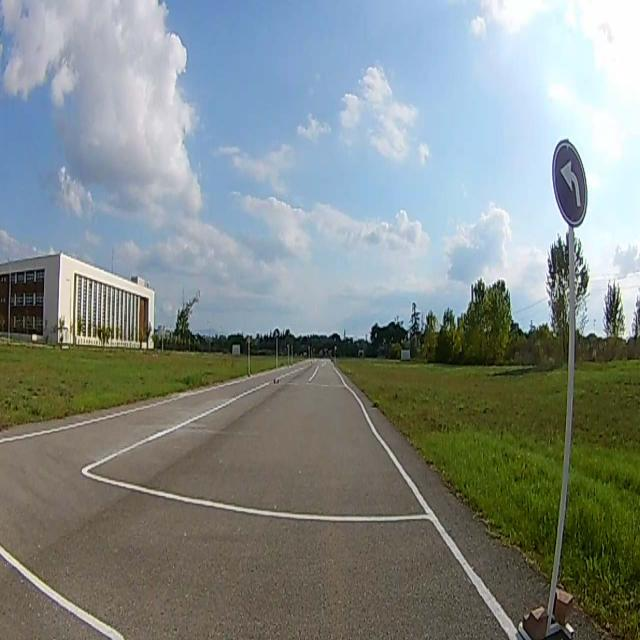sol: (552, 143, 587, 225)
